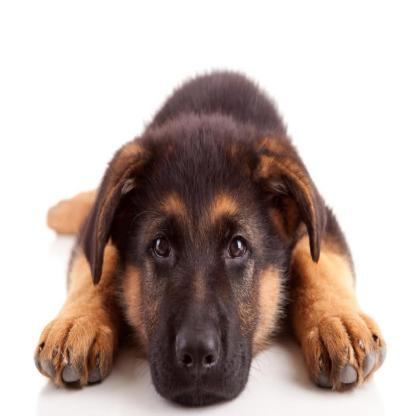dog: (30, 69, 385, 396)
